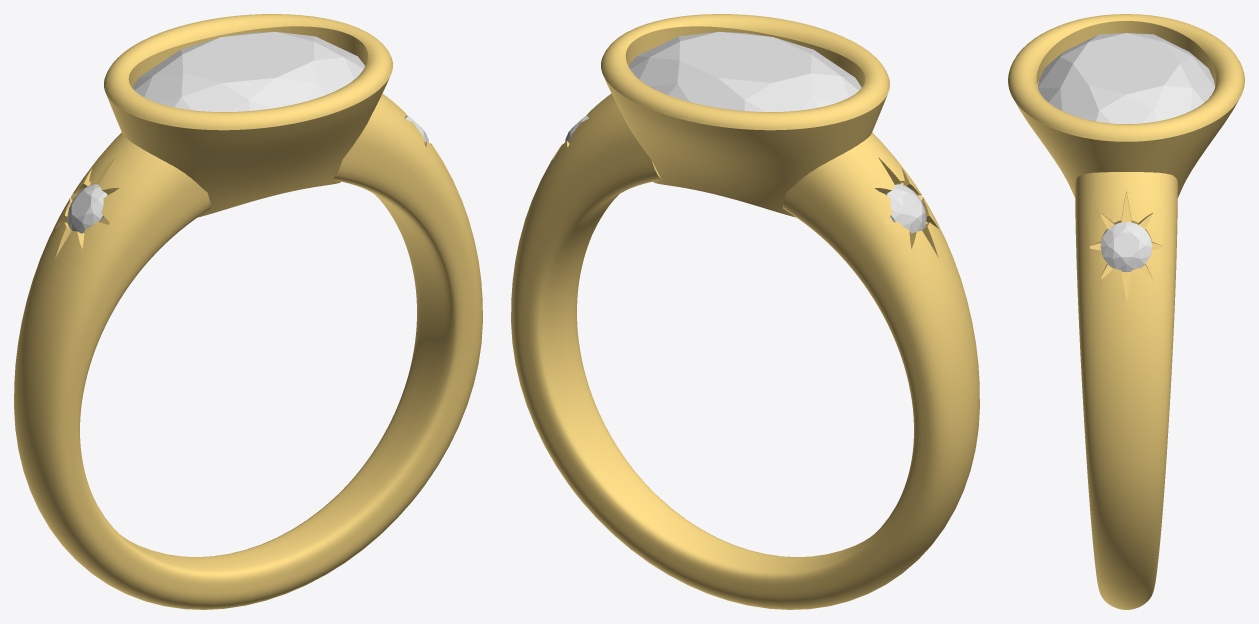
Rendered from SamYGv8_blender.glb.
3 views of the same model, side by side, from view 1: azimuth 30°, elevation 25°; view 2: azimuth 150°, elevation 25°; view 3: azimuth 270°, elevation 25° (orthographic). The views are drawn at different scales.
Parts seen in each view (by area): view 1: V8 YG for 3d model, V8 dia for 3d model.002, V8 dia for 3d model.001; view 2: V8 YG for 3d model, V8 dia for 3d model.002, V8 dia for 3d model.001; view 3: V8 YG for 3d model, V8 dia for 3d model.002, V8 dia for 3d model.
Part boxes in pixels (<box>): V8 YG for 3d model: <box>14,14,482,609</box>; V8 dia for 3d model.002: <box>132,32,364,111</box>; V8 dia for 3d model.001: <box>67,184,107,233</box>; V8 YG for 3d model: <box>511,14,979,609</box>; V8 dia for 3d model.002: <box>629,32,861,111</box>; V8 dia for 3d model.001: <box>886,184,926,233</box>; V8 YG for 3d model: <box>1008,14,1244,609</box>; V8 dia for 3d model.002: <box>1037,33,1215,123</box>; V8 dia for 3d model: <box>1100,222,1152,271</box>.
Size of the model in its own units: 19.5 by 22.43 by 9.22.
